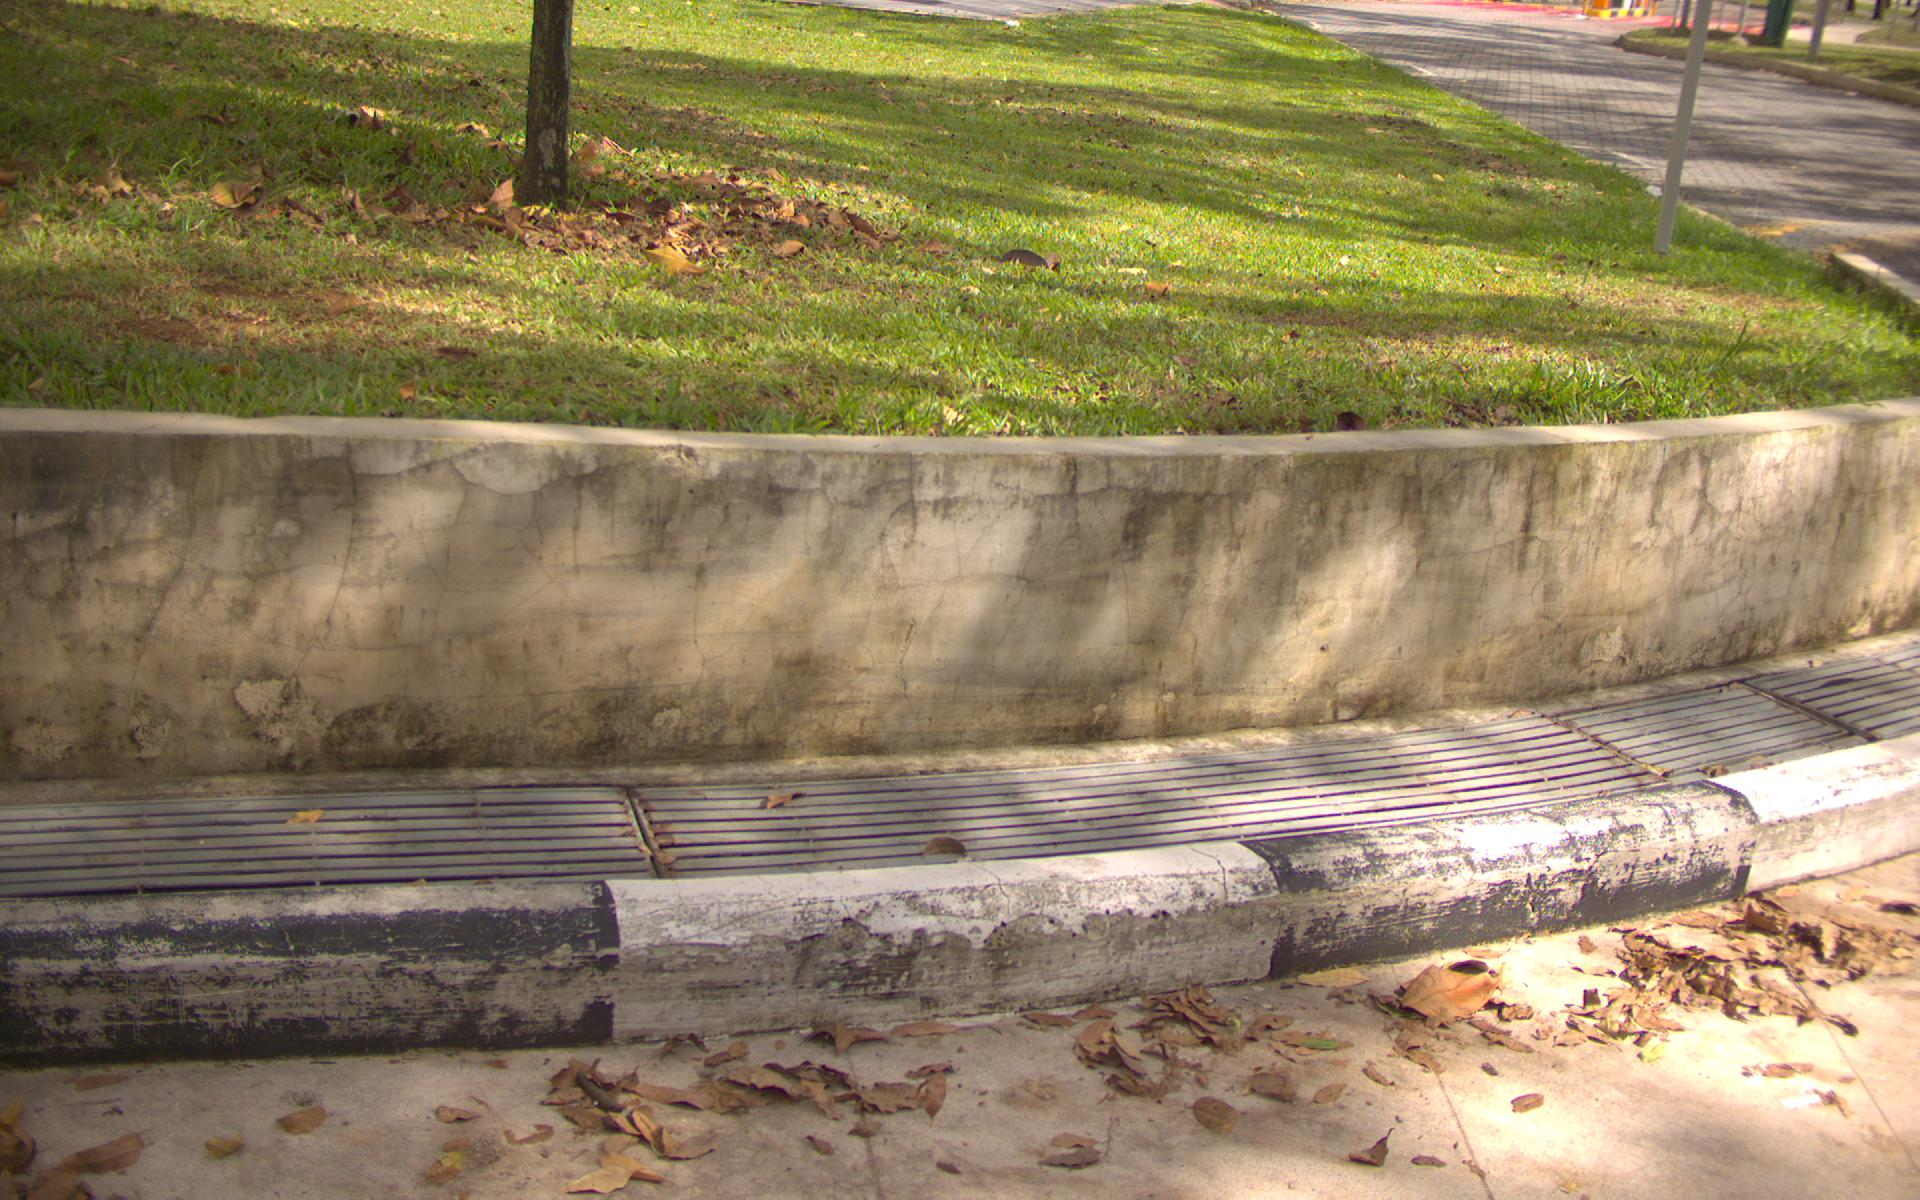curb_dic_low: (1, 794, 1435, 885)
road_curb_medium: (15, 1023, 1908, 1190)
road_turf_low: (12, 25, 1321, 388)
